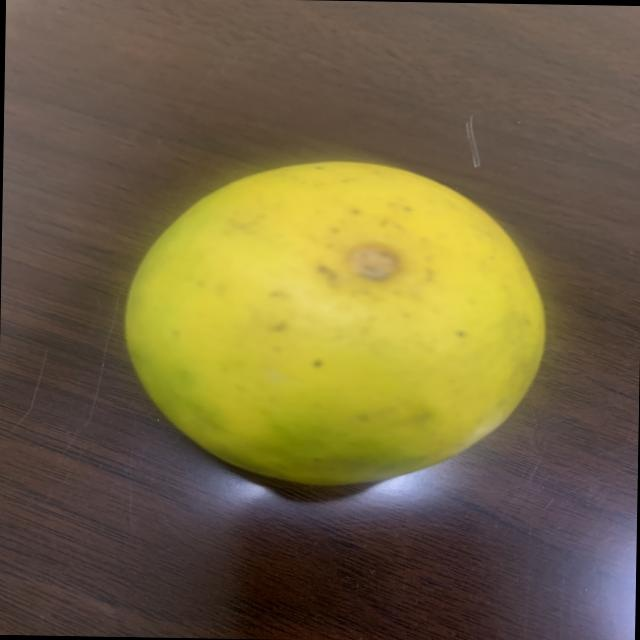agrume: (129, 151, 556, 492)
